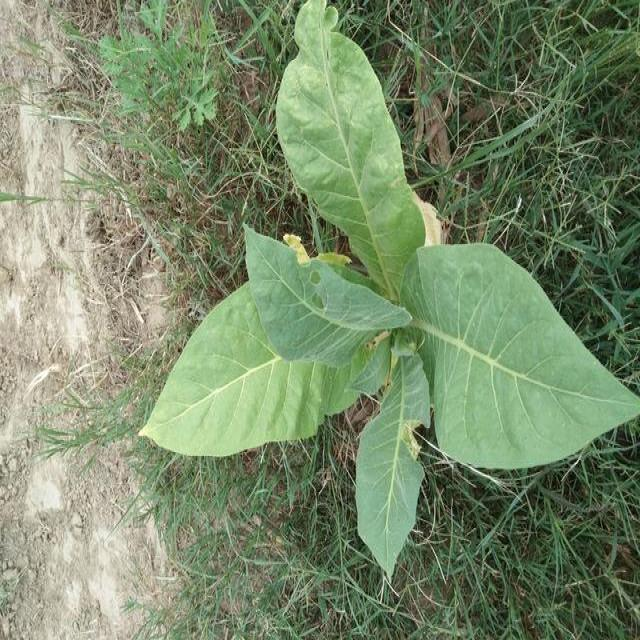crop: (142, 11, 640, 589)
